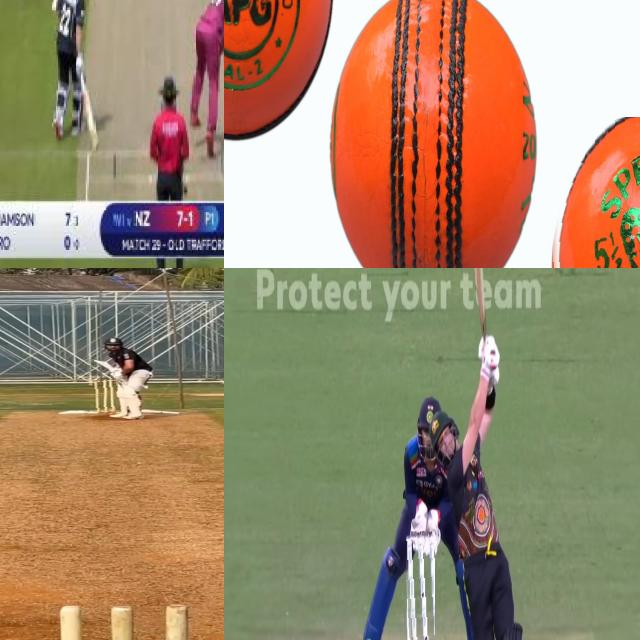Cricket ball: (330, 0, 538, 268), (224, 0, 333, 147), (545, 117, 640, 268)
Stumps: (59, 601, 192, 640), (403, 530, 435, 640), (91, 379, 116, 415)
